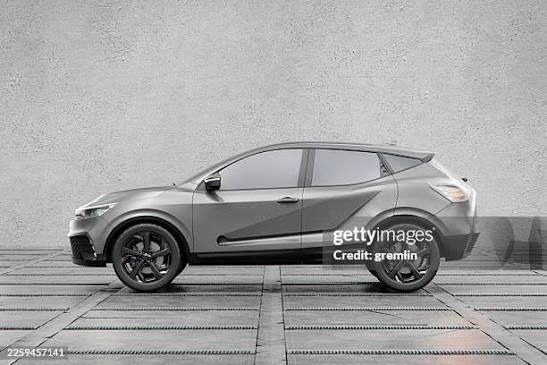car: (80, 139, 492, 290)
